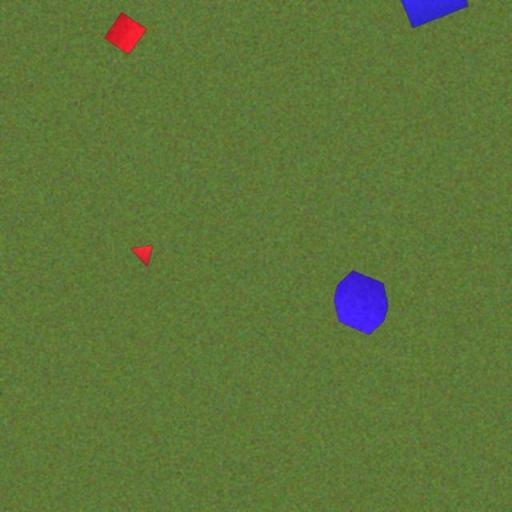BLUE_SQUARE: (388, 0, 470, 29)
RED_SQUARE: (104, 12, 147, 55)
